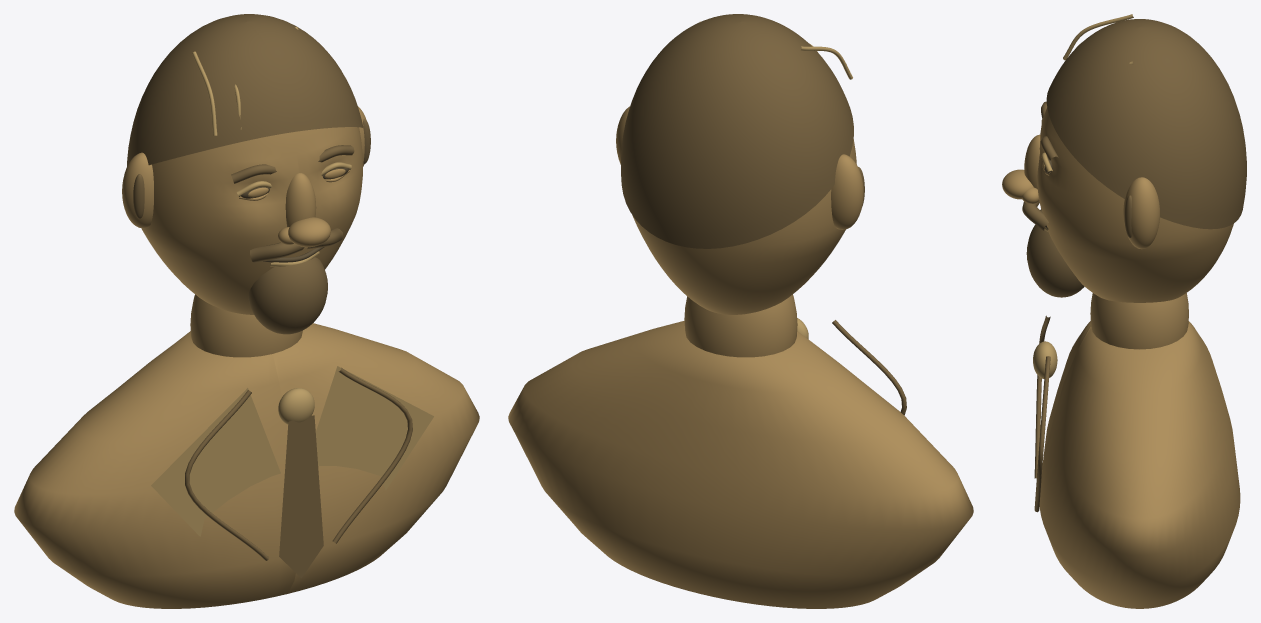
File: rodrigues.glb
3 views of the same model, side by side, from view 1: azimuth 30°, elevation 25°; view 2: azimuth 150°, elevation 25°; view 3: azimuth 270°, elevation 25° (orthographic). The views are drawn at different scales.
Parts seen in each view (by area): view 1: rodrigues; view 2: rodrigues; view 3: rodrigues.
Part boxes in pixels (box(x1,y1,x2,y2)): rodrigues: box(14, 14, 479, 608); rodrigues: box(508, 14, 973, 608); rodrigues: box(1002, 14, 1246, 608).
Bounding box in the file's own units: 1.22 × 1.39 × 0.5957.
